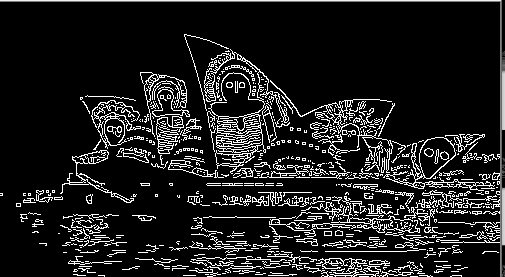opera house: (47, 16, 488, 201)
